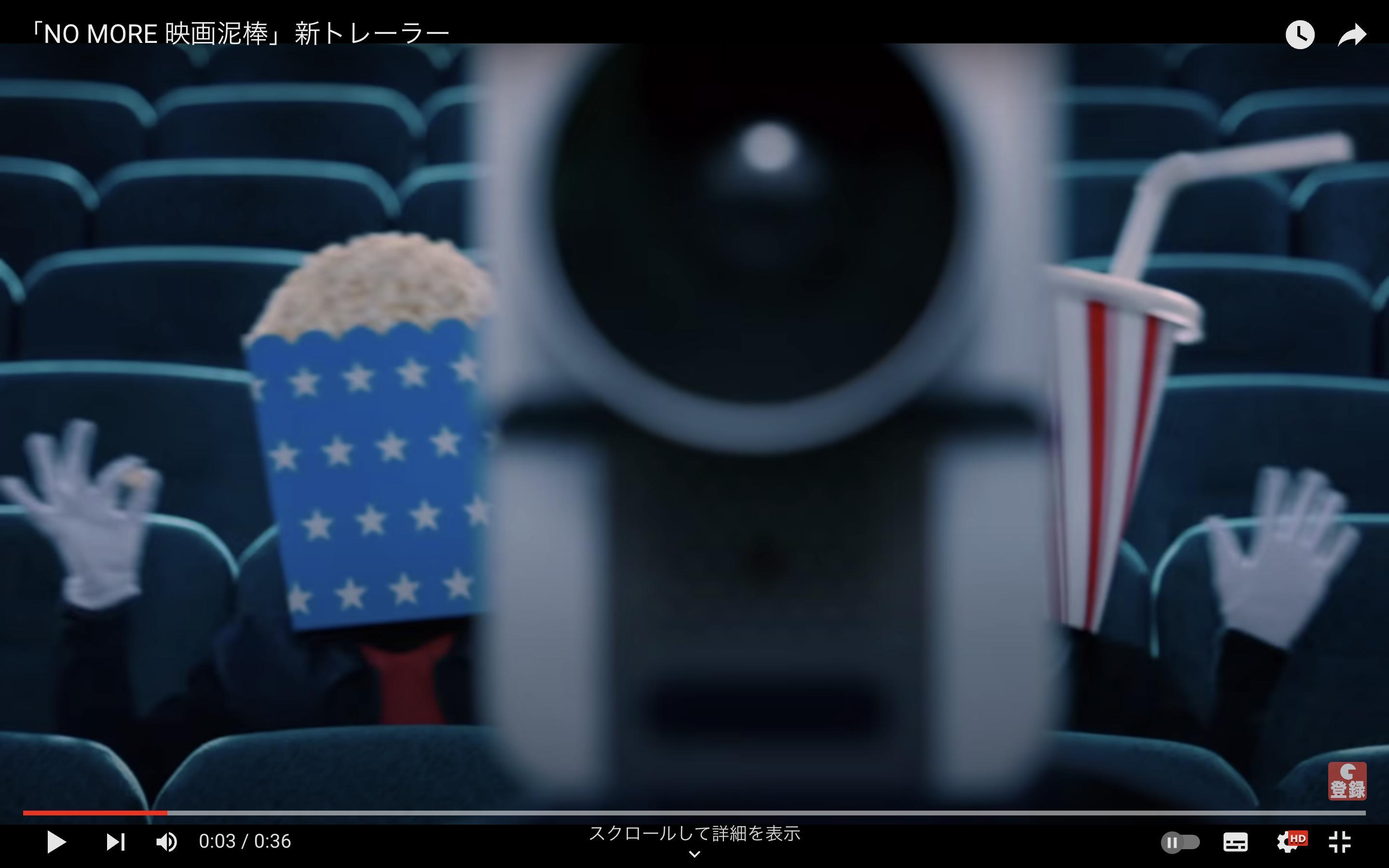no more kid: (460, 39, 1072, 803)
